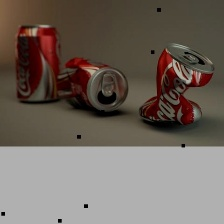can: (134, 36, 220, 130), (53, 46, 131, 120), (9, 20, 61, 105)
